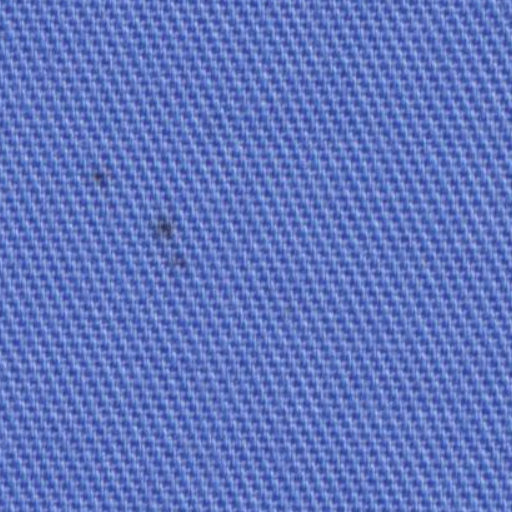WuZi: (136, 204, 196, 278), (72, 162, 114, 196)
